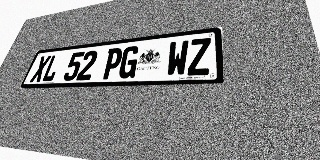2: (76, 50, 99, 80)
5: (62, 52, 85, 81)
G: (117, 45, 141, 79)
L: (41, 54, 63, 82)
P: (101, 47, 124, 79)
W: (165, 40, 189, 77)
X: (29, 55, 52, 82)
Z: (187, 37, 211, 76)
